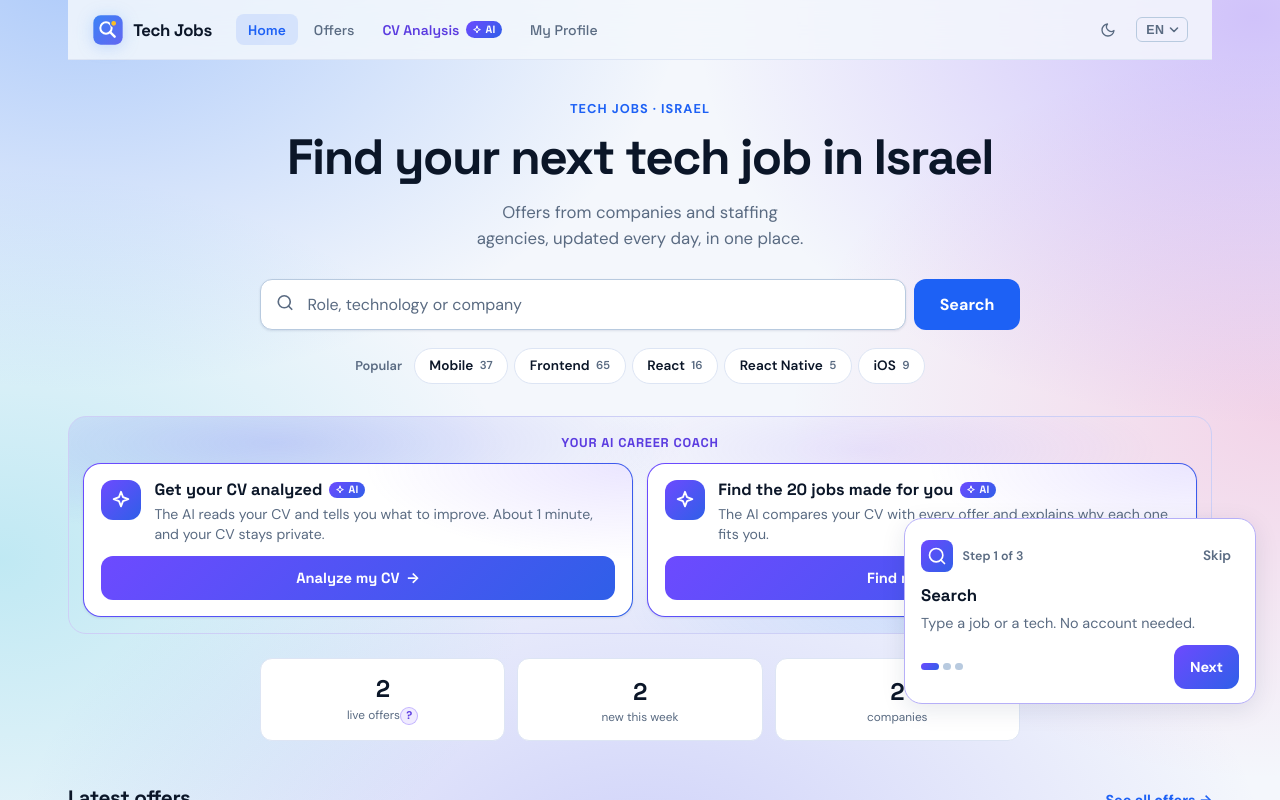
HomePage (integration) › searching navigates to the offers with the query (encoded and trimmed)
Type "  c# & .net " into the dropdown named "Search offers". click: (583, 305)
box: [260,279,906,330]
Then press Enter
(page scrolled)
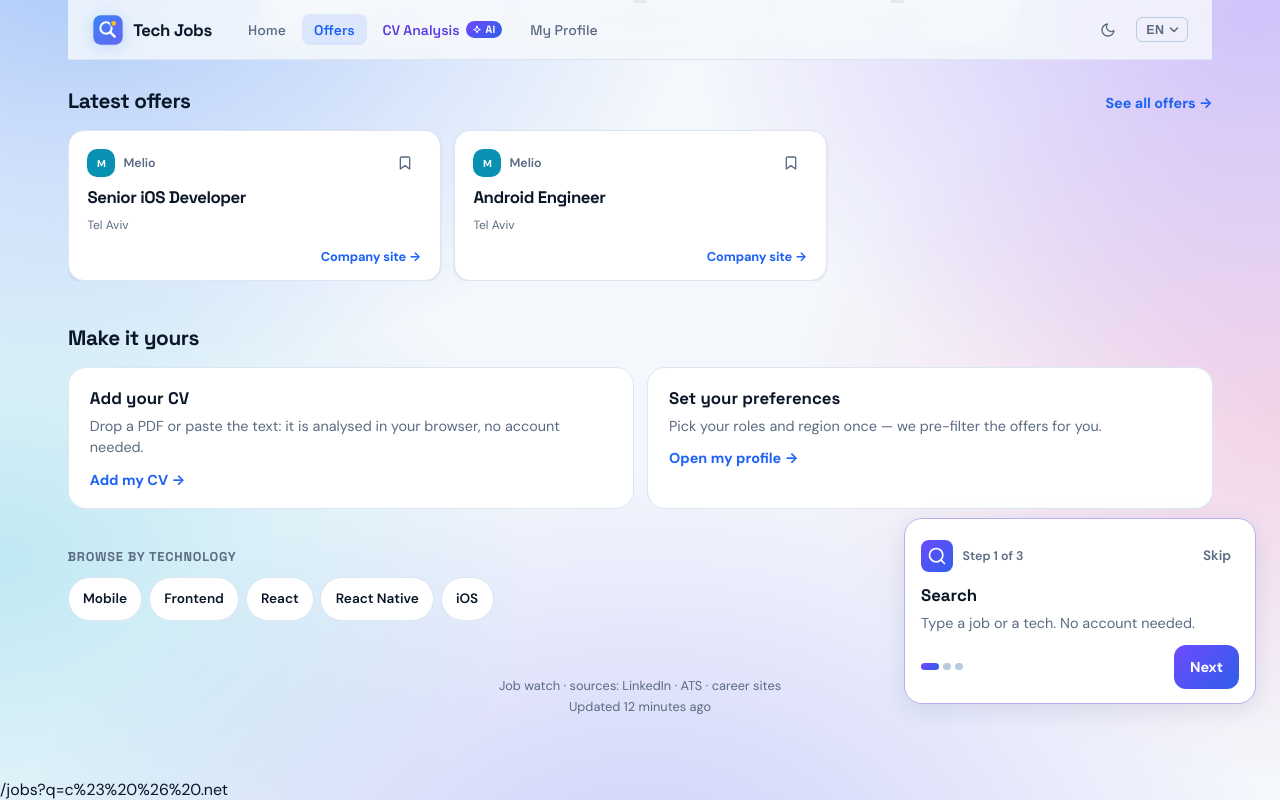
Expected: the text with test id "location" reads "/jobs?q=c%23%20%26%20.net", [0,779,228,799]
